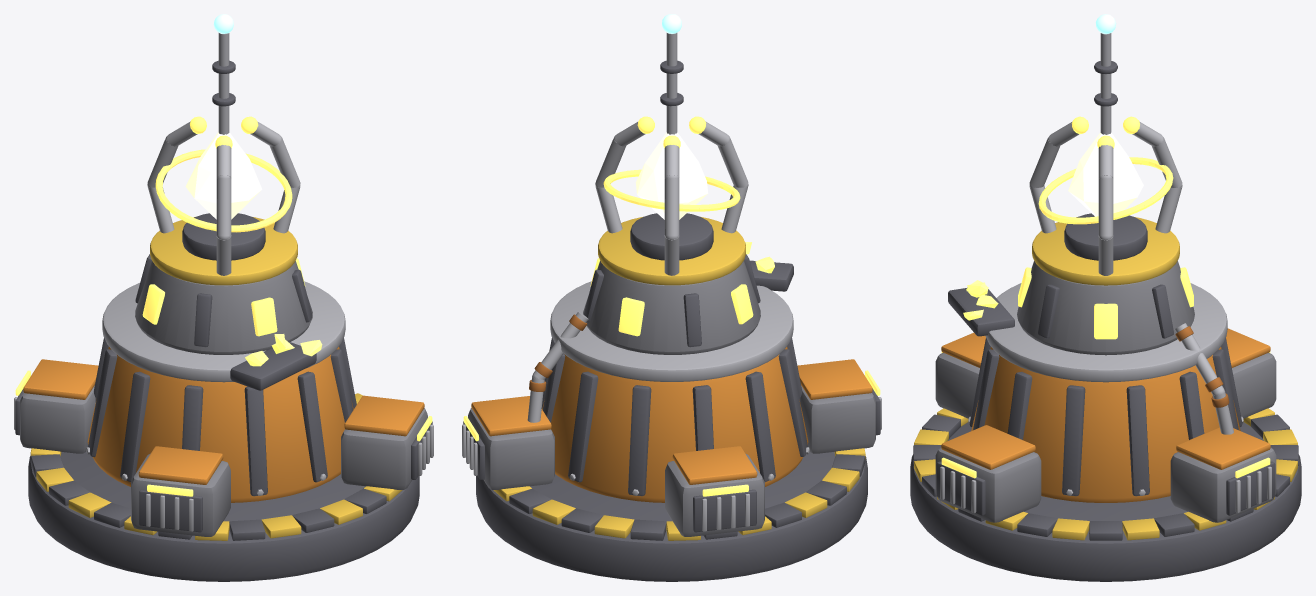
The model's file is Collector.glb.
3 renders of one model, left to right at view 1: azimuth 30°, elevation 25°; view 2: azimuth 150°, elevation 25°; view 3: azimuth 270°, elevation 25°, orthographic.
Parts seen in each view (by area): view 1: Collector; view 2: Collector; view 3: Collector.
Part boxes in pixels (left/top/right/bottom): Collector: left=14, top=14, right=433, bottom=581; Collector: left=462, top=14, right=881, bottom=581; Collector: left=910, top=14, right=1301, bottom=581.
Size of the model in its own units: 1.32 by 1.81 by 1.32.
